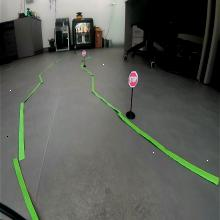stop: (128, 71, 138, 88)
